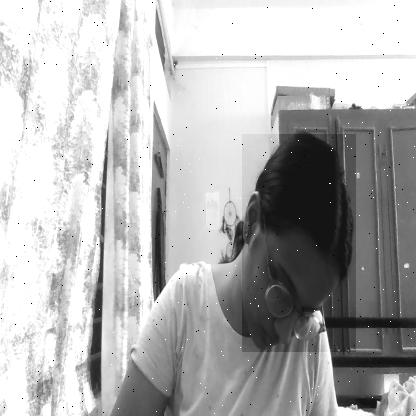Distracted: (242, 134, 356, 352)
